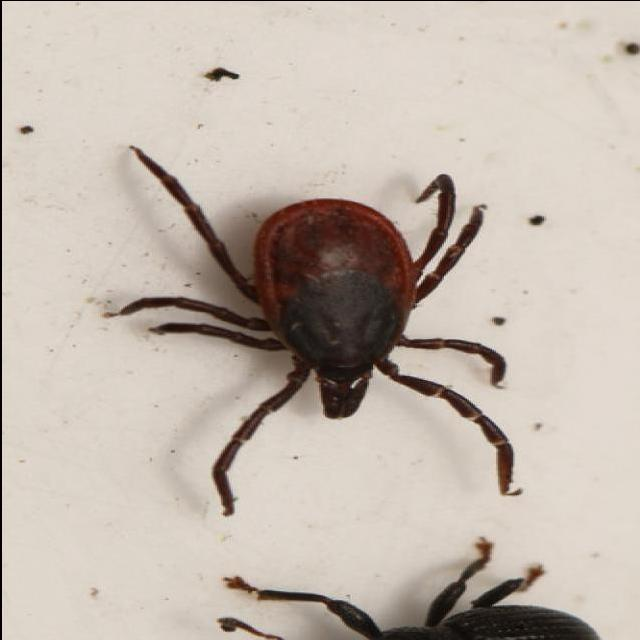Ixodes Ricinus-F: (104, 148, 511, 512)
